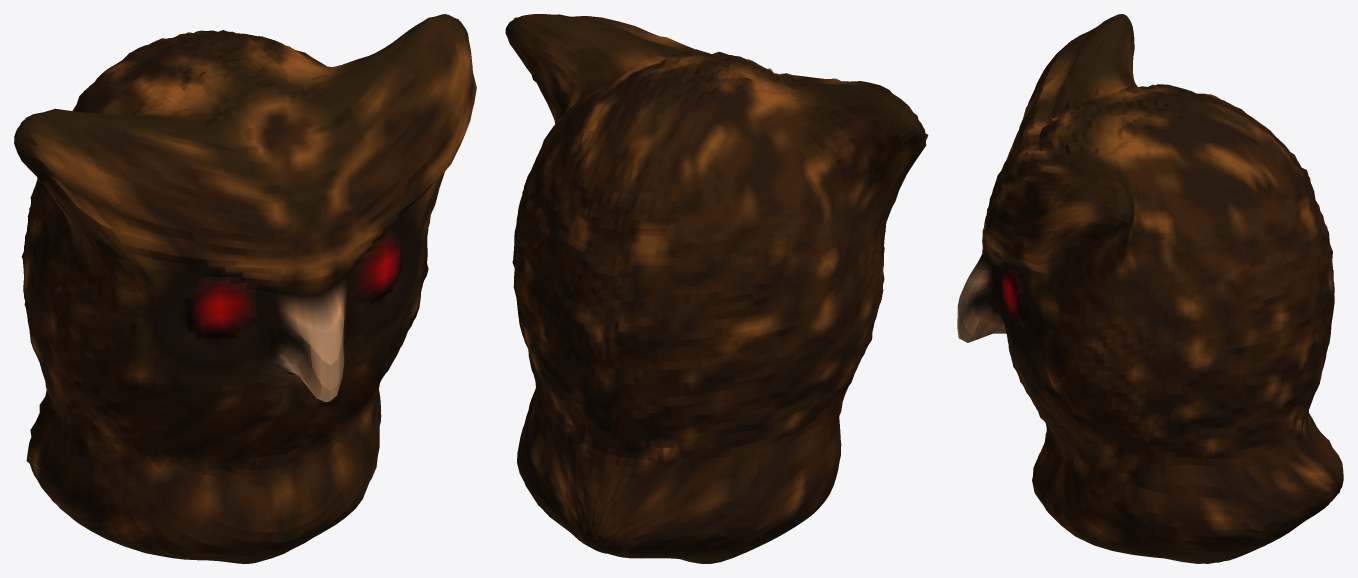
The model's file is OWL_LOD1.fbx.
3 views of the same model, side by side, from view 1: azimuth 30°, elevation 25°; view 2: azimuth 150°, elevation 25°; view 3: azimuth 270°, elevation 25° (orthographic). The views are drawn at different scales.
Visible parts, largest first — view 1: polySurface8; view 2: polySurface8; view 3: polySurface8.
Boxes of the visible parts, x1,y1,x2,y2 form: polySurface8: (14,14,476,563); polySurface8: (505,14,928,563); polySurface8: (957,14,1343,563).
Bounding box in the file's own units: 4.22 × 4.53 × 3.54.
